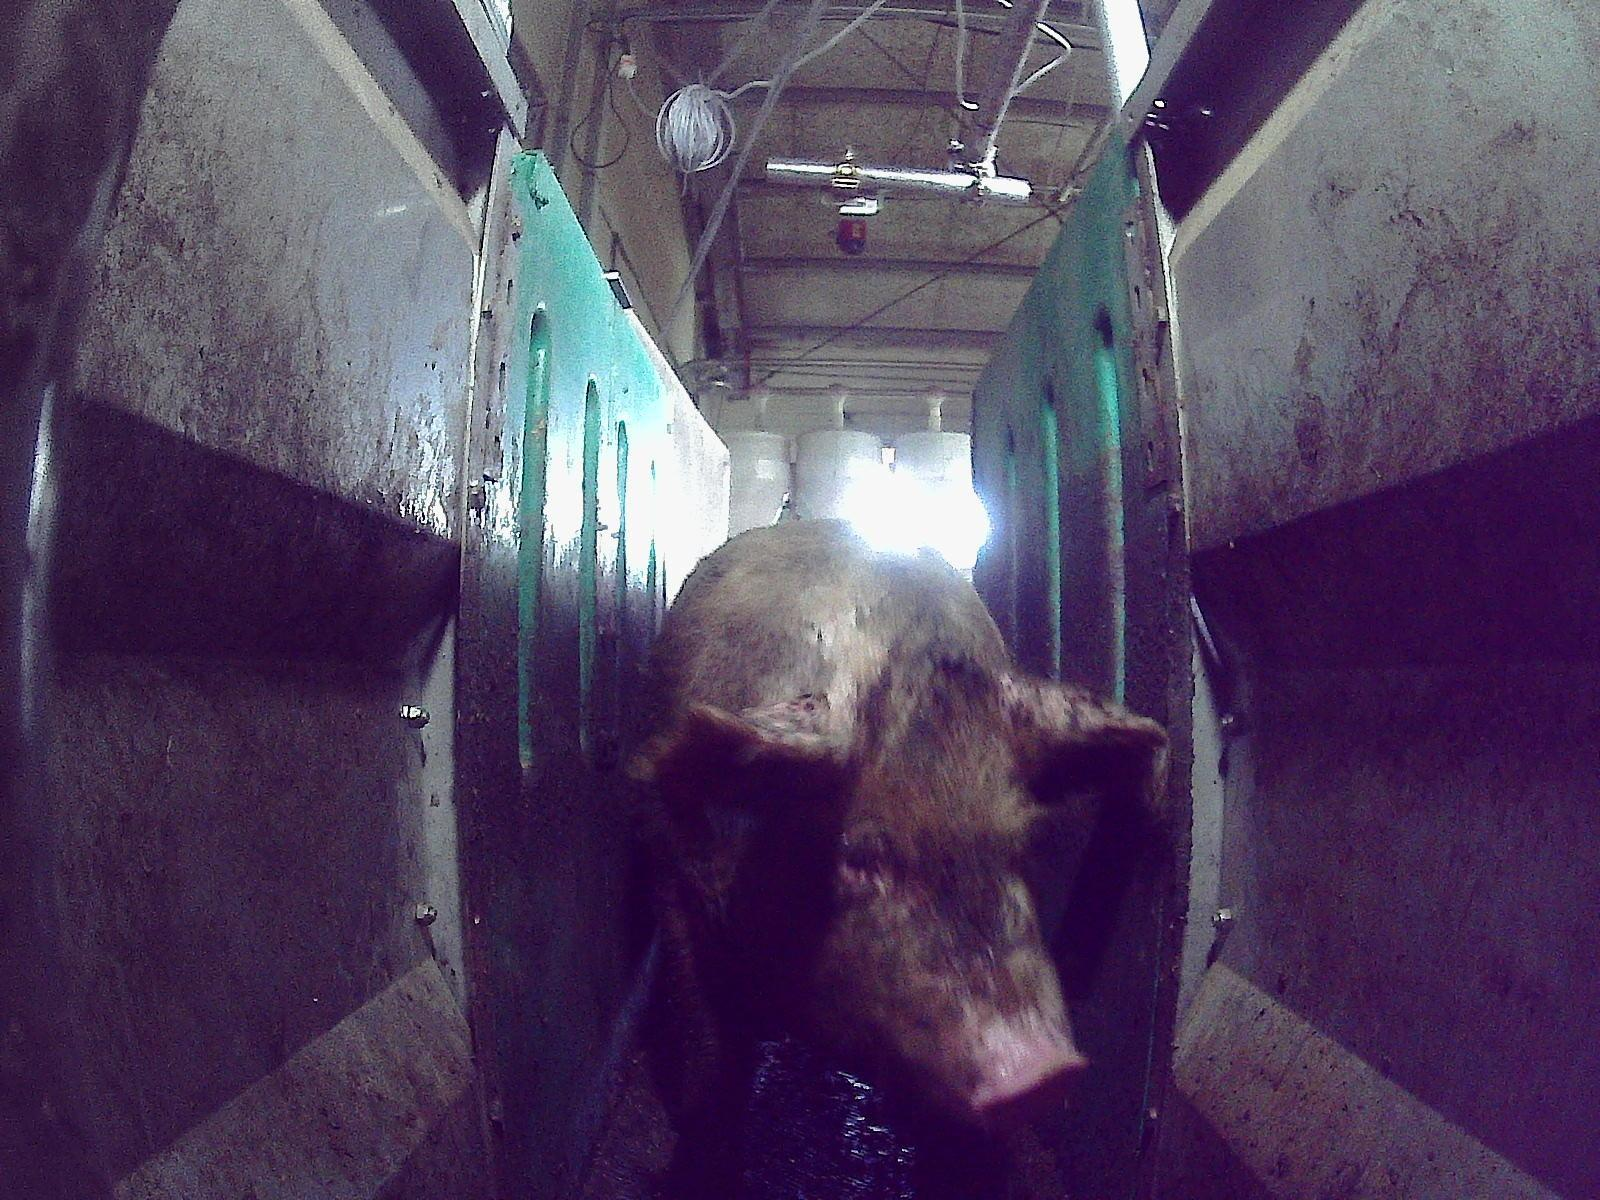Face: (744, 661, 1089, 1135)
